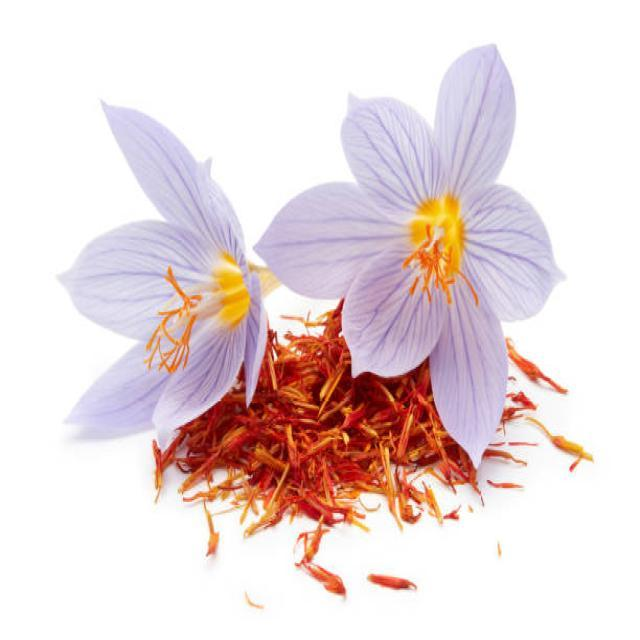Flower: (336, 107, 536, 420), (99, 172, 313, 431)
